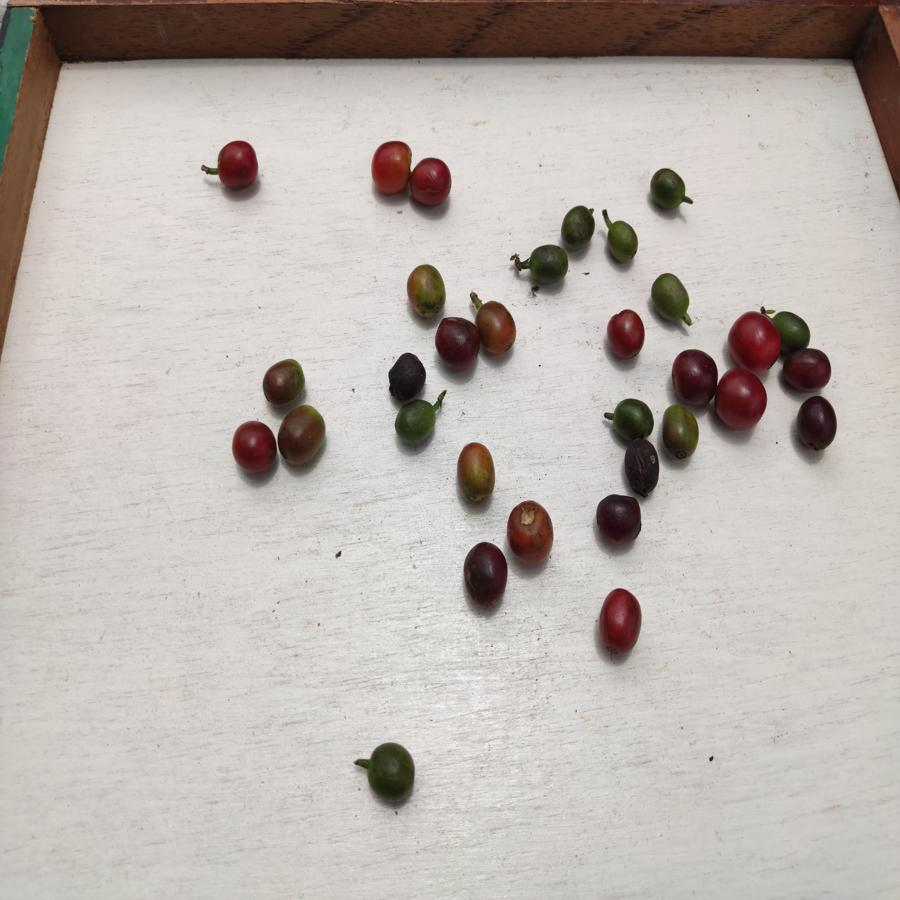Inmaduro: (362, 741, 418, 798), (392, 400, 441, 446), (650, 271, 692, 320), (524, 243, 570, 283), (609, 399, 655, 439), (649, 167, 687, 212), (559, 203, 597, 248), (603, 221, 640, 266), (770, 308, 810, 349)
Maduro: (717, 365, 768, 432), (596, 586, 644, 653), (729, 310, 778, 371), (211, 139, 261, 194), (231, 417, 277, 474), (368, 137, 413, 195), (408, 156, 454, 209), (604, 309, 647, 361)
Pinton: (503, 493, 555, 565), (278, 402, 329, 464), (456, 440, 498, 500), (660, 404, 701, 462), (474, 299, 516, 353), (408, 265, 447, 319), (262, 357, 305, 404)
Sobremaduro: (462, 540, 506, 606), (593, 493, 644, 546), (670, 348, 717, 405), (792, 397, 839, 450), (782, 350, 833, 393), (437, 318, 479, 367), (624, 439, 662, 493), (386, 352, 425, 398)
